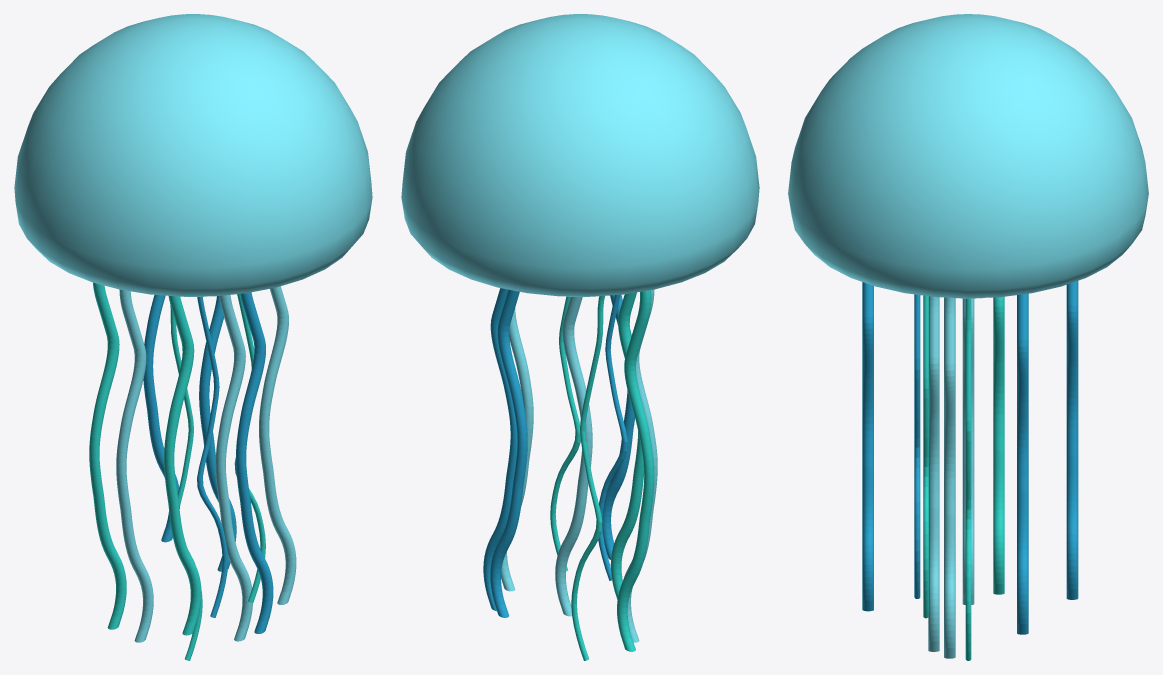
Rendered from JellyFish.fbx.
3 views of the same model, side by side, from view 1: azimuth 30°, elevation 25°; view 2: azimuth 150°, elevation 25°; view 3: azimuth 270°, elevation 25° (orthographic).
Parts seen in each view (by area): view 1: Cylinder.002; view 2: Cylinder.002; view 3: Cylinder.002.
Boxes of the visible parts, x1,y1,x2,y2 form: Cylinder.002: [14, 14, 372, 660]; Cylinder.002: [401, 14, 759, 660]; Cylinder.002: [788, 14, 1148, 660].
Size of the model in its own units: 200 by 387 by 200.
